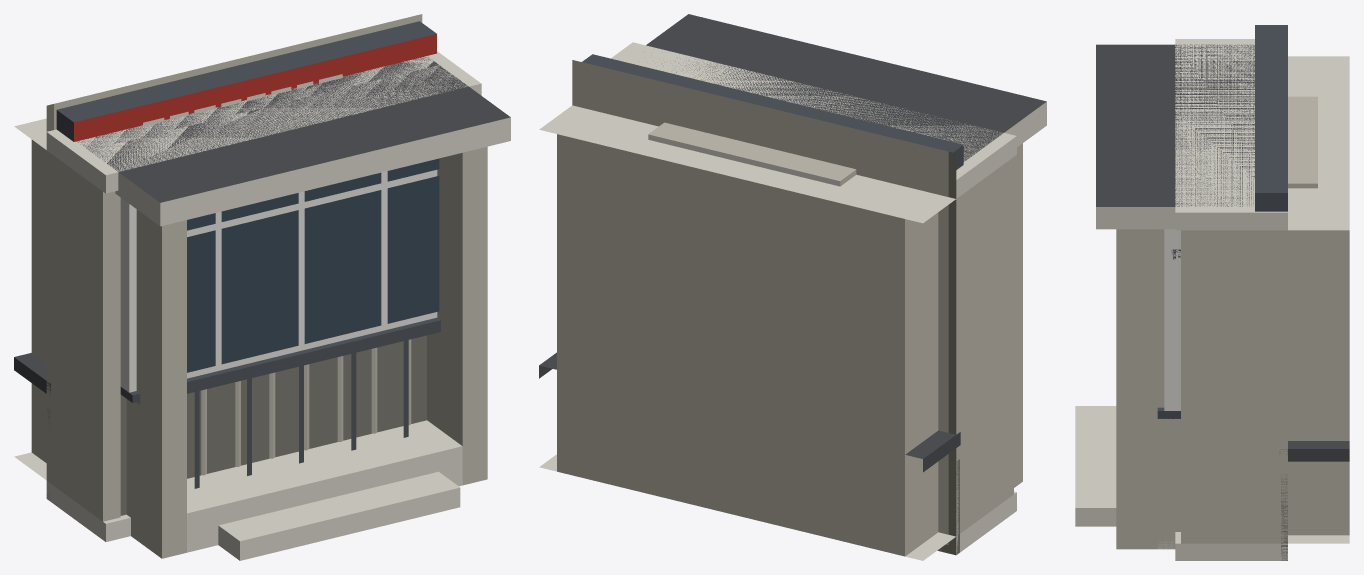
The model's file is panel-WrLL9UP5.glb.
The picture shows the model from 3 angles, left to right: view 1: azimuth 30°, elevation 25°; view 2: azimuth 150°, elevation 25°; view 3: azimuth 270°, elevation 25°; orthographic projection. The views are drawn at different scales.
Parts seen in each view (by area): view 1: panel__g_door, panel__loggia_glazed, panel__loggia, panel__g_shop, panel__balcony, panel__g_win, panel__g_plinth, panel__cap; view 2: panel__loggia, panel__g_door, panel__g_win, panel__win, panel__g_plinth, panel__g_shop, panel__win2, panel__cap, panel__balcony, panel__stair; view 3: panel__loggia, panel__g_door, panel__g_shop, panel__loggia_glazed, panel__g_win, panel__cap.
Part boxes in pixels (x1,y1,x2,y2): panel__g_door: (54, 15, 510, 560); panel__loggia_glazed: (120, 158, 440, 515); panel__loggia: (14, 51, 481, 541); panel__g_shop: (46, 15, 436, 141); panel__balcony: (133, 325, 440, 541); panel__g_win: (46, 14, 422, 499); panel__g_plinth: (54, 14, 421, 129); panel__cap: (14, 353, 50, 393); panel__loggia: (539, 42, 1016, 560); panel__g_door: (572, 14, 1046, 512); panel__g_win: (572, 60, 959, 554); panel__win: (572, 87, 956, 555); panel__g_plinth: (572, 60, 948, 457); panel__g_shop: (573, 54, 963, 554); panel__win2: (572, 87, 948, 543); panel__cap: (539, 352, 960, 551); panel__balcony: (573, 88, 948, 533); panel__stair: (573, 87, 948, 532); panel__loggia: (1175, 39, 1349, 560); panel__g_door: (1075, 44, 1254, 549); panel__g_shop: (1171, 25, 1287, 259); panel__loggia_glazed: (1157, 229, 1180, 418); panel__g_win: (1281, 96, 1317, 560); panel__cap: (1281, 441, 1349, 461).
Bounding box in the file's own units: 3 × 3 × 2.
